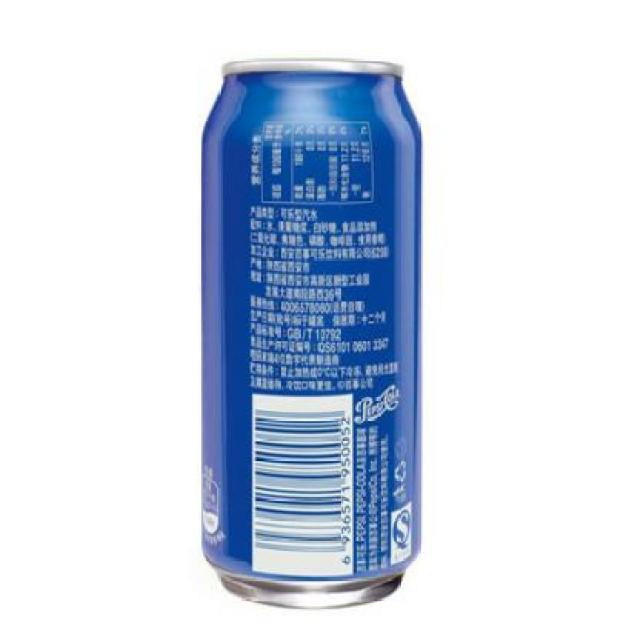Metal: (199, 49, 423, 607)
